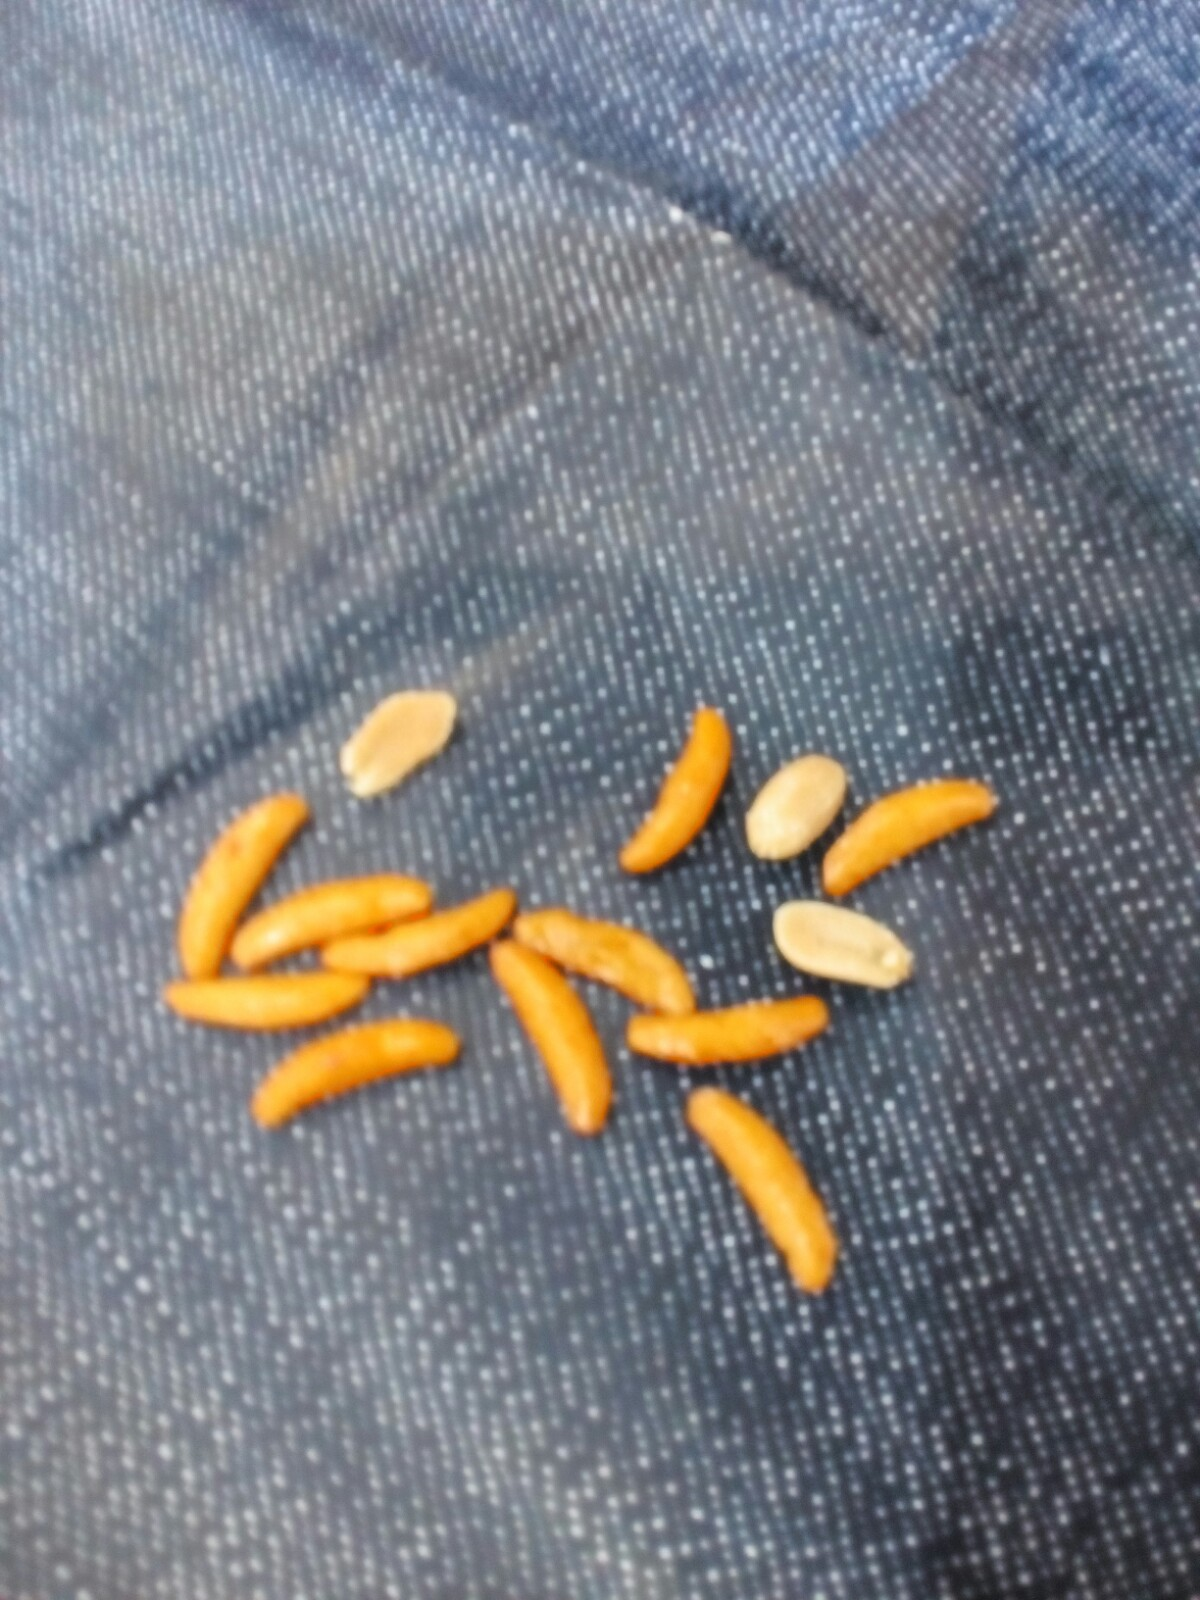peanut: (337, 678, 466, 808), (769, 884, 914, 995), (741, 740, 850, 871)
